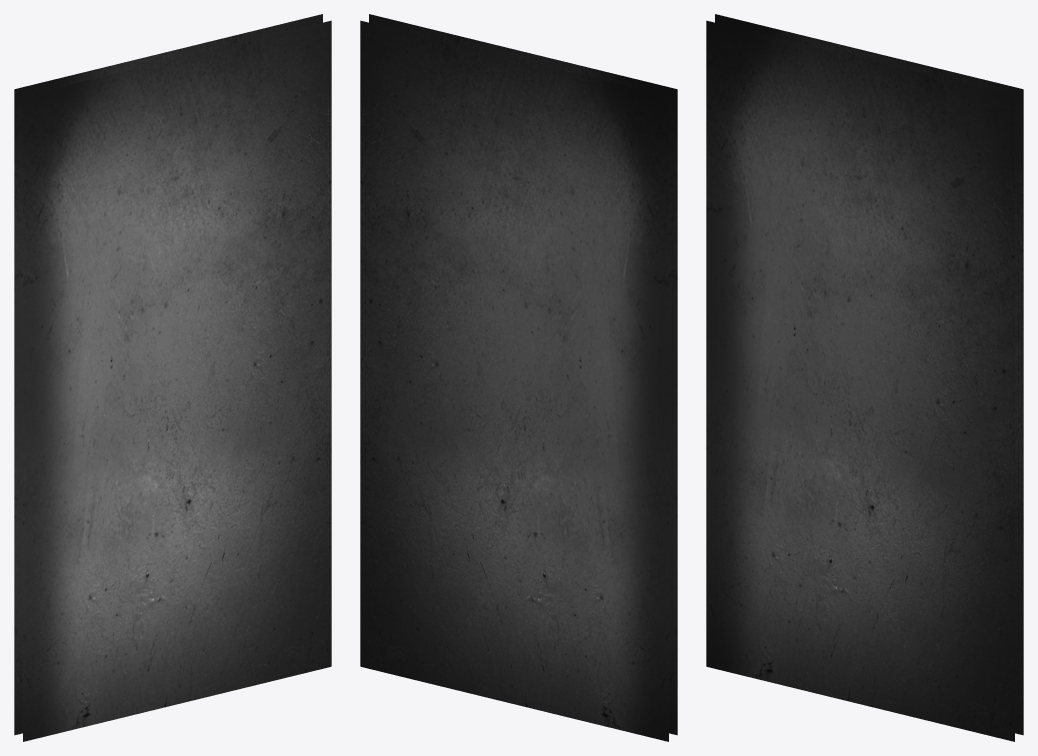
The model's file is window_break.fbx.
3 views of the same model, side by side, from view 1: azimuth 30°, elevation 25°; view 2: azimuth 150°, elevation 25°; view 3: azimuth 330°, elevation 25° (orthographic).
Visible parts, largest first — view 1: pCube1, polySurface4, polySurface51, polySurface42, polySurface5, polySurface61, polySurface55, polySurface40, polySurface57, polySurface59, polySurface66, polySurface45 (+5 smaller); view 2: pCube1, polySurface4, polySurface51, polySurface42, polySurface5, polySurface66, polySurface55, polySurface61, polySurface40, polySurface57, polySurface59, polySurface53 (+5 smaller); view 3: pCube1, polySurface4, polySurface51, polySurface42, polySurface5, polySurface66, polySurface61, polySurface55, polySurface40, polySurface57, polySurface59, polySurface45 (+5 smaller).
Part boxes in pixels (<box>): pCube1: <box>14,15,331,741</box>; polySurface4: <box>119,14,331,244</box>; polySurface51: <box>105,515,331,721</box>; polySurface42: <box>115,158,325,356</box>; polySurface5: <box>14,63,132,268</box>; polySurface61: <box>14,392,108,582</box>; polySurface55: <box>172,398,331,549</box>; polySurface40: <box>14,268,114,417</box>; polySurface57: <box>14,567,94,741</box>; polySurface59: <box>232,326,331,474</box>; polySurface66: <box>96,376,231,565</box>; polySurface45: <box>250,156,331,349</box>; pCube1: <box>360,14,677,740</box>; polySurface4: <box>360,14,572,243</box>; polySurface51: <box>360,517,586,721</box>; polySurface42: <box>365,156,577,366</box>; polySurface5: <box>559,62,677,267</box>; polySurface66: <box>460,367,596,566</box>; polySurface55: <box>360,398,519,551</box>; polySurface61: <box>584,392,677,583</box>; polySurface40: <box>577,267,677,417</box>; polySurface57: <box>598,570,677,741</box>; polySurface59: <box>360,326,459,474</box>; polySurface53: <box>520,552,608,727</box>; pCube1: <box>706,15,1023,741</box>; polySurface4: <box>802,41,1023,230</box>; polySurface51: <box>788,547,1023,741</box>; polySurface42: <box>798,217,1017,385</box>; polySurface5: <box>706,14,823,216</box>; polySurface66: <box>778,358,914,547</box>; polySurface61: <box>706,342,791,526</box>; polySurface55: <box>855,424,1022,590</box>; polySurface40: <box>706,210,797,358</box>; polySurface57: <box>706,507,778,680</box>; polySurface59: <box>915,385,1023,547</box>; polySurface45: <box>933,223,1023,400</box>.
Size of the model in its own units: 20 by 40 by 1.
